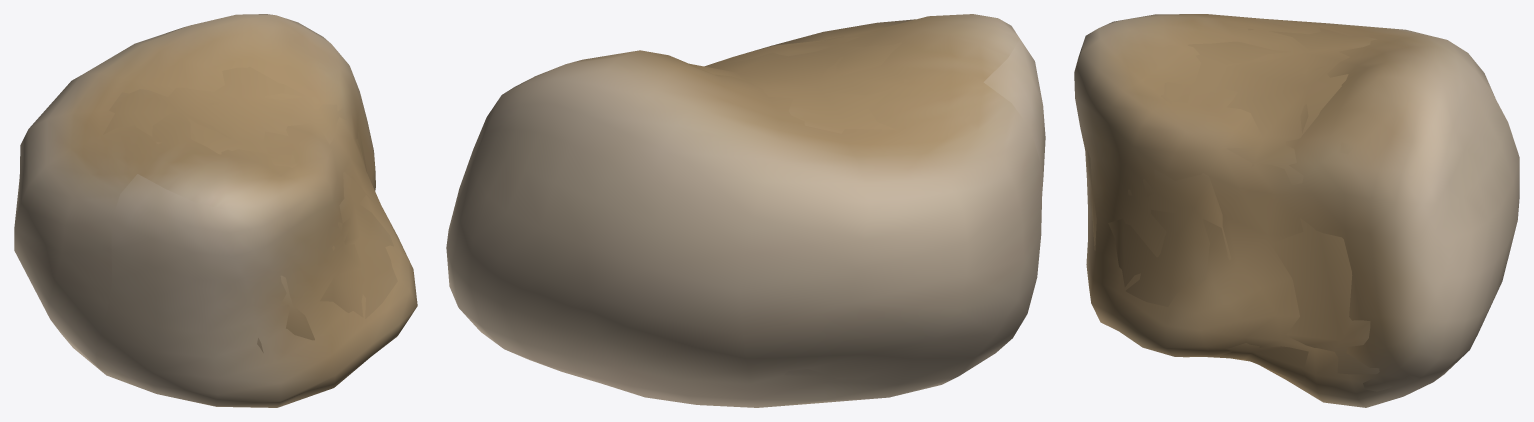
File: R tarsi quartum.fbx
The picture shows the model from 3 angles, left to right: view 1: azimuth 30°, elevation 25°; view 2: azimuth 150°, elevation 25°; view 3: azimuth 270°, elevation 25°; orthographic projection. The views are drawn at different scales.
Parts seen in each view (by area): view 1: R tarsi quartum, R tarsi quartum low; view 2: R tarsi quartum, R tarsi quartum low; view 3: R tarsi quartum, R tarsi quartum low.
Boxes of the visible parts, x1,y1,x2,y2 form: R tarsi quartum: (14,14,417,407); R tarsi quartum low: (103,62,397,352); R tarsi quartum: (446,14,1045,407); R tarsi quartum low: (689,36,909,379); R tarsi quartum: (1074,14,1519,407); R tarsi quartum low: (1087,27,1392,391).
Size of the model in its own units: 4.74 by 3.15 by 4.38.
